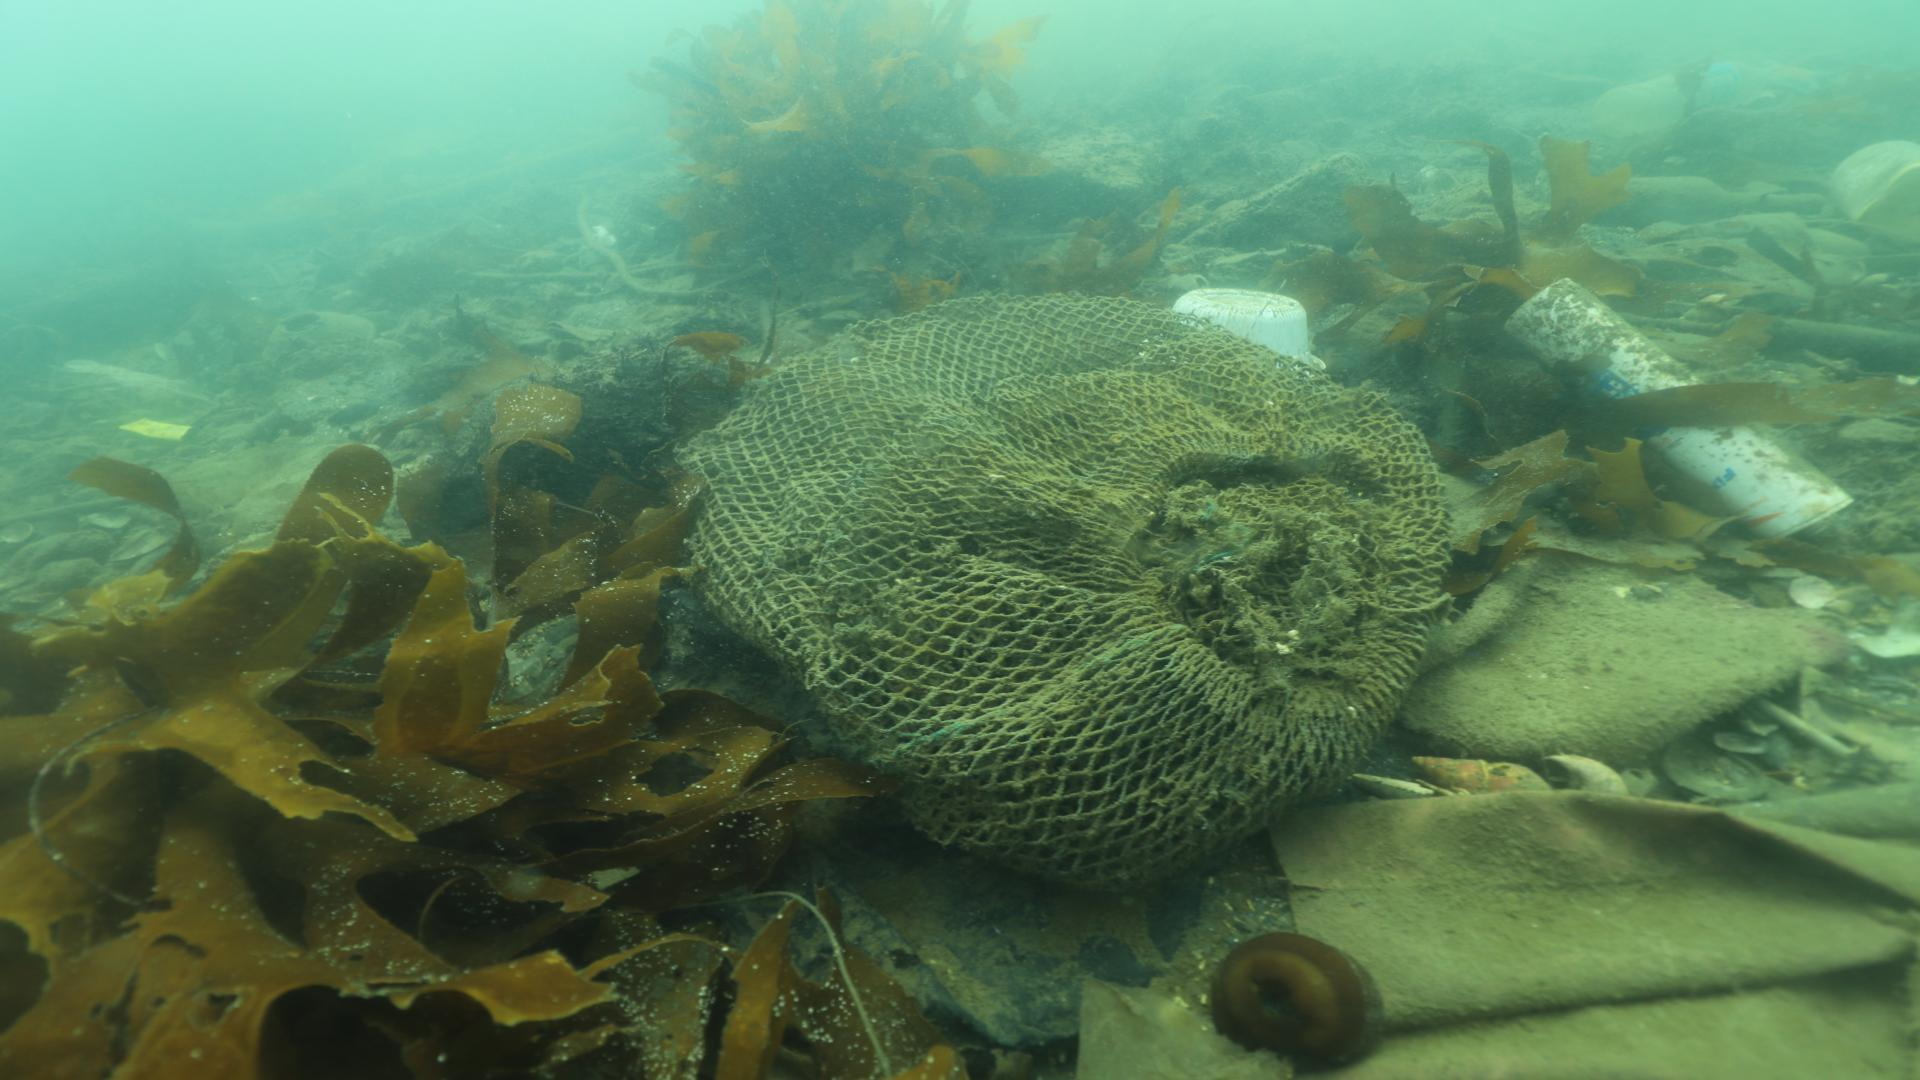fish net: (673, 291, 1453, 881)
